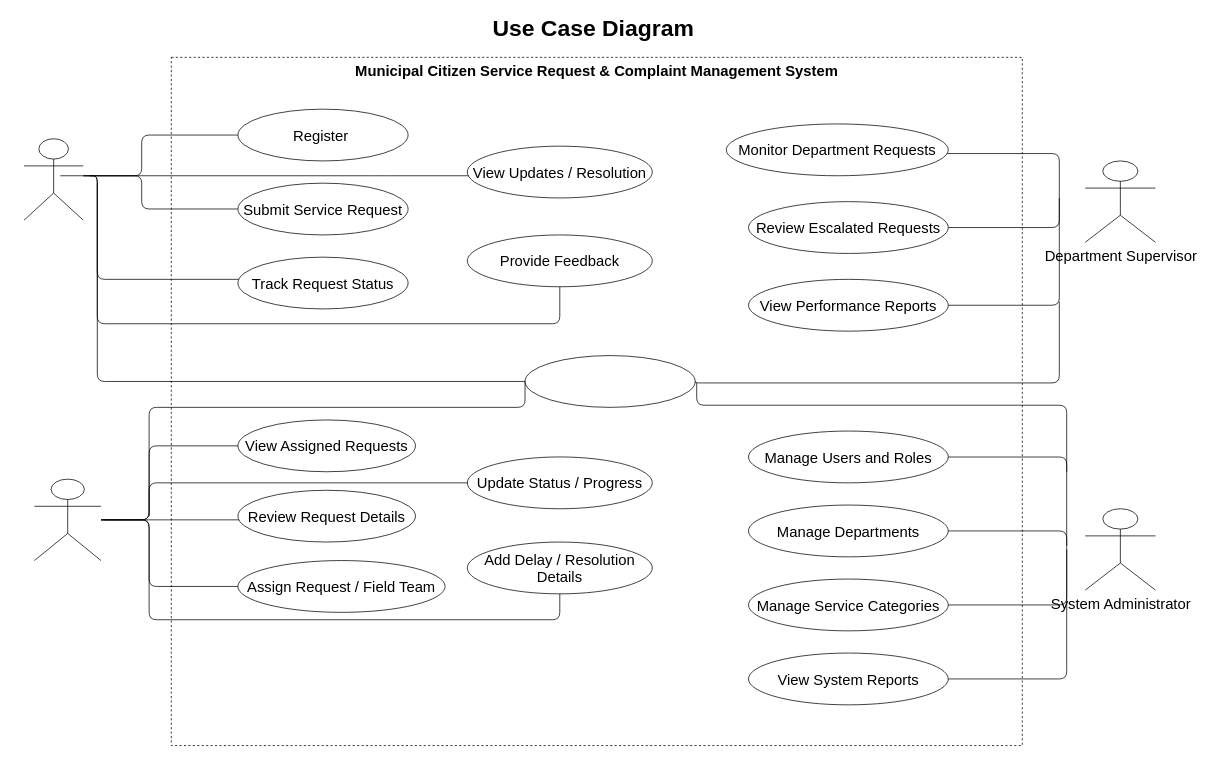
Some shapes in this 1209 by 759 pixel diagram are drawn without their labels. The centre of each missing label's shape, as x and y in pixels:
"Citizen" goes at [53,179].
"Login" goes at [609,381].
"Municipal Officer" goes at [67,519].
